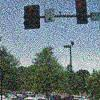traffic lights: (23, 5, 40, 30), (75, 0, 89, 25)
